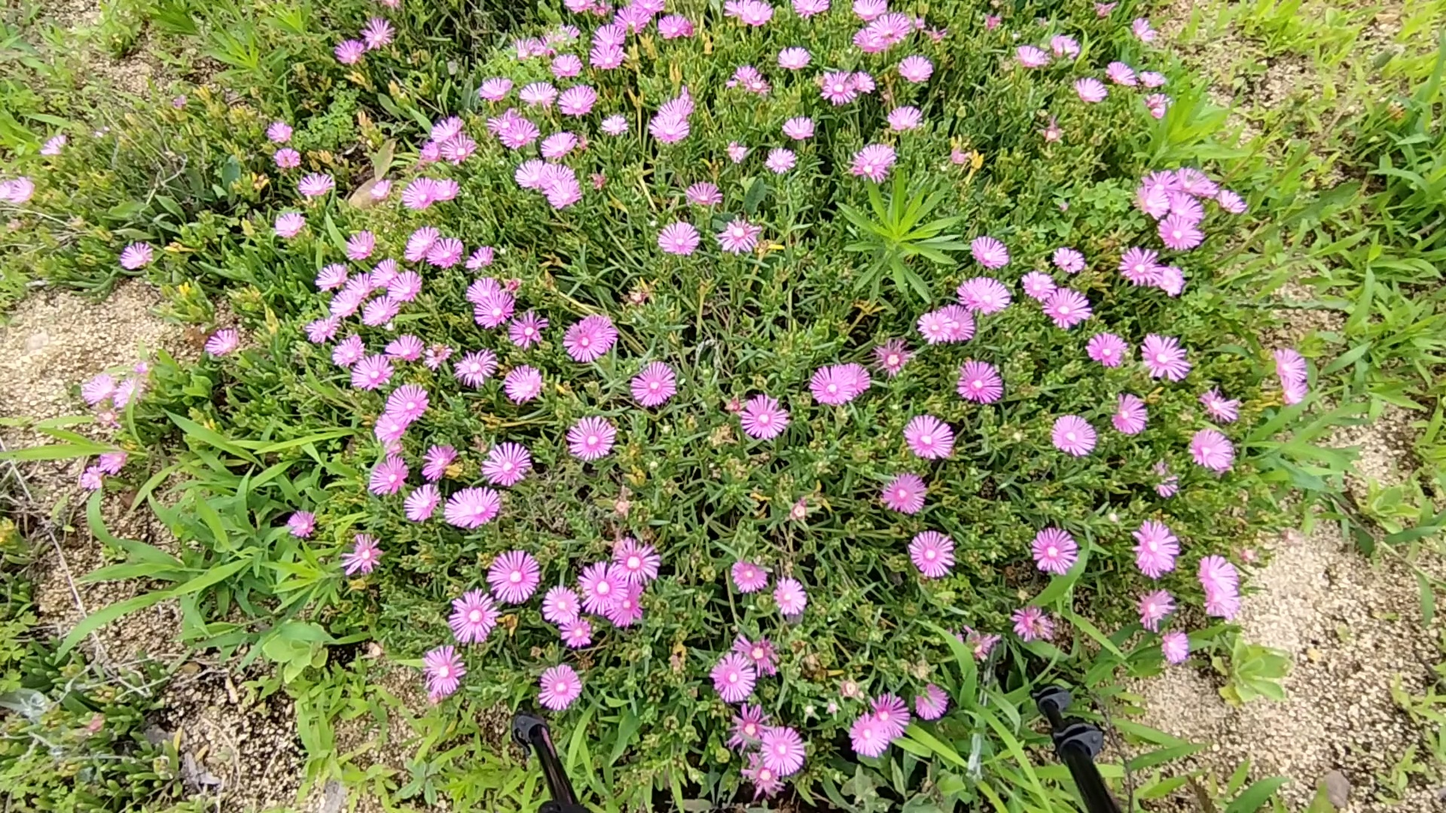bees: (1029, 616, 1047, 636), (432, 342, 444, 358), (881, 31, 896, 43), (282, 154, 293, 166), (1065, 259, 1075, 269)
